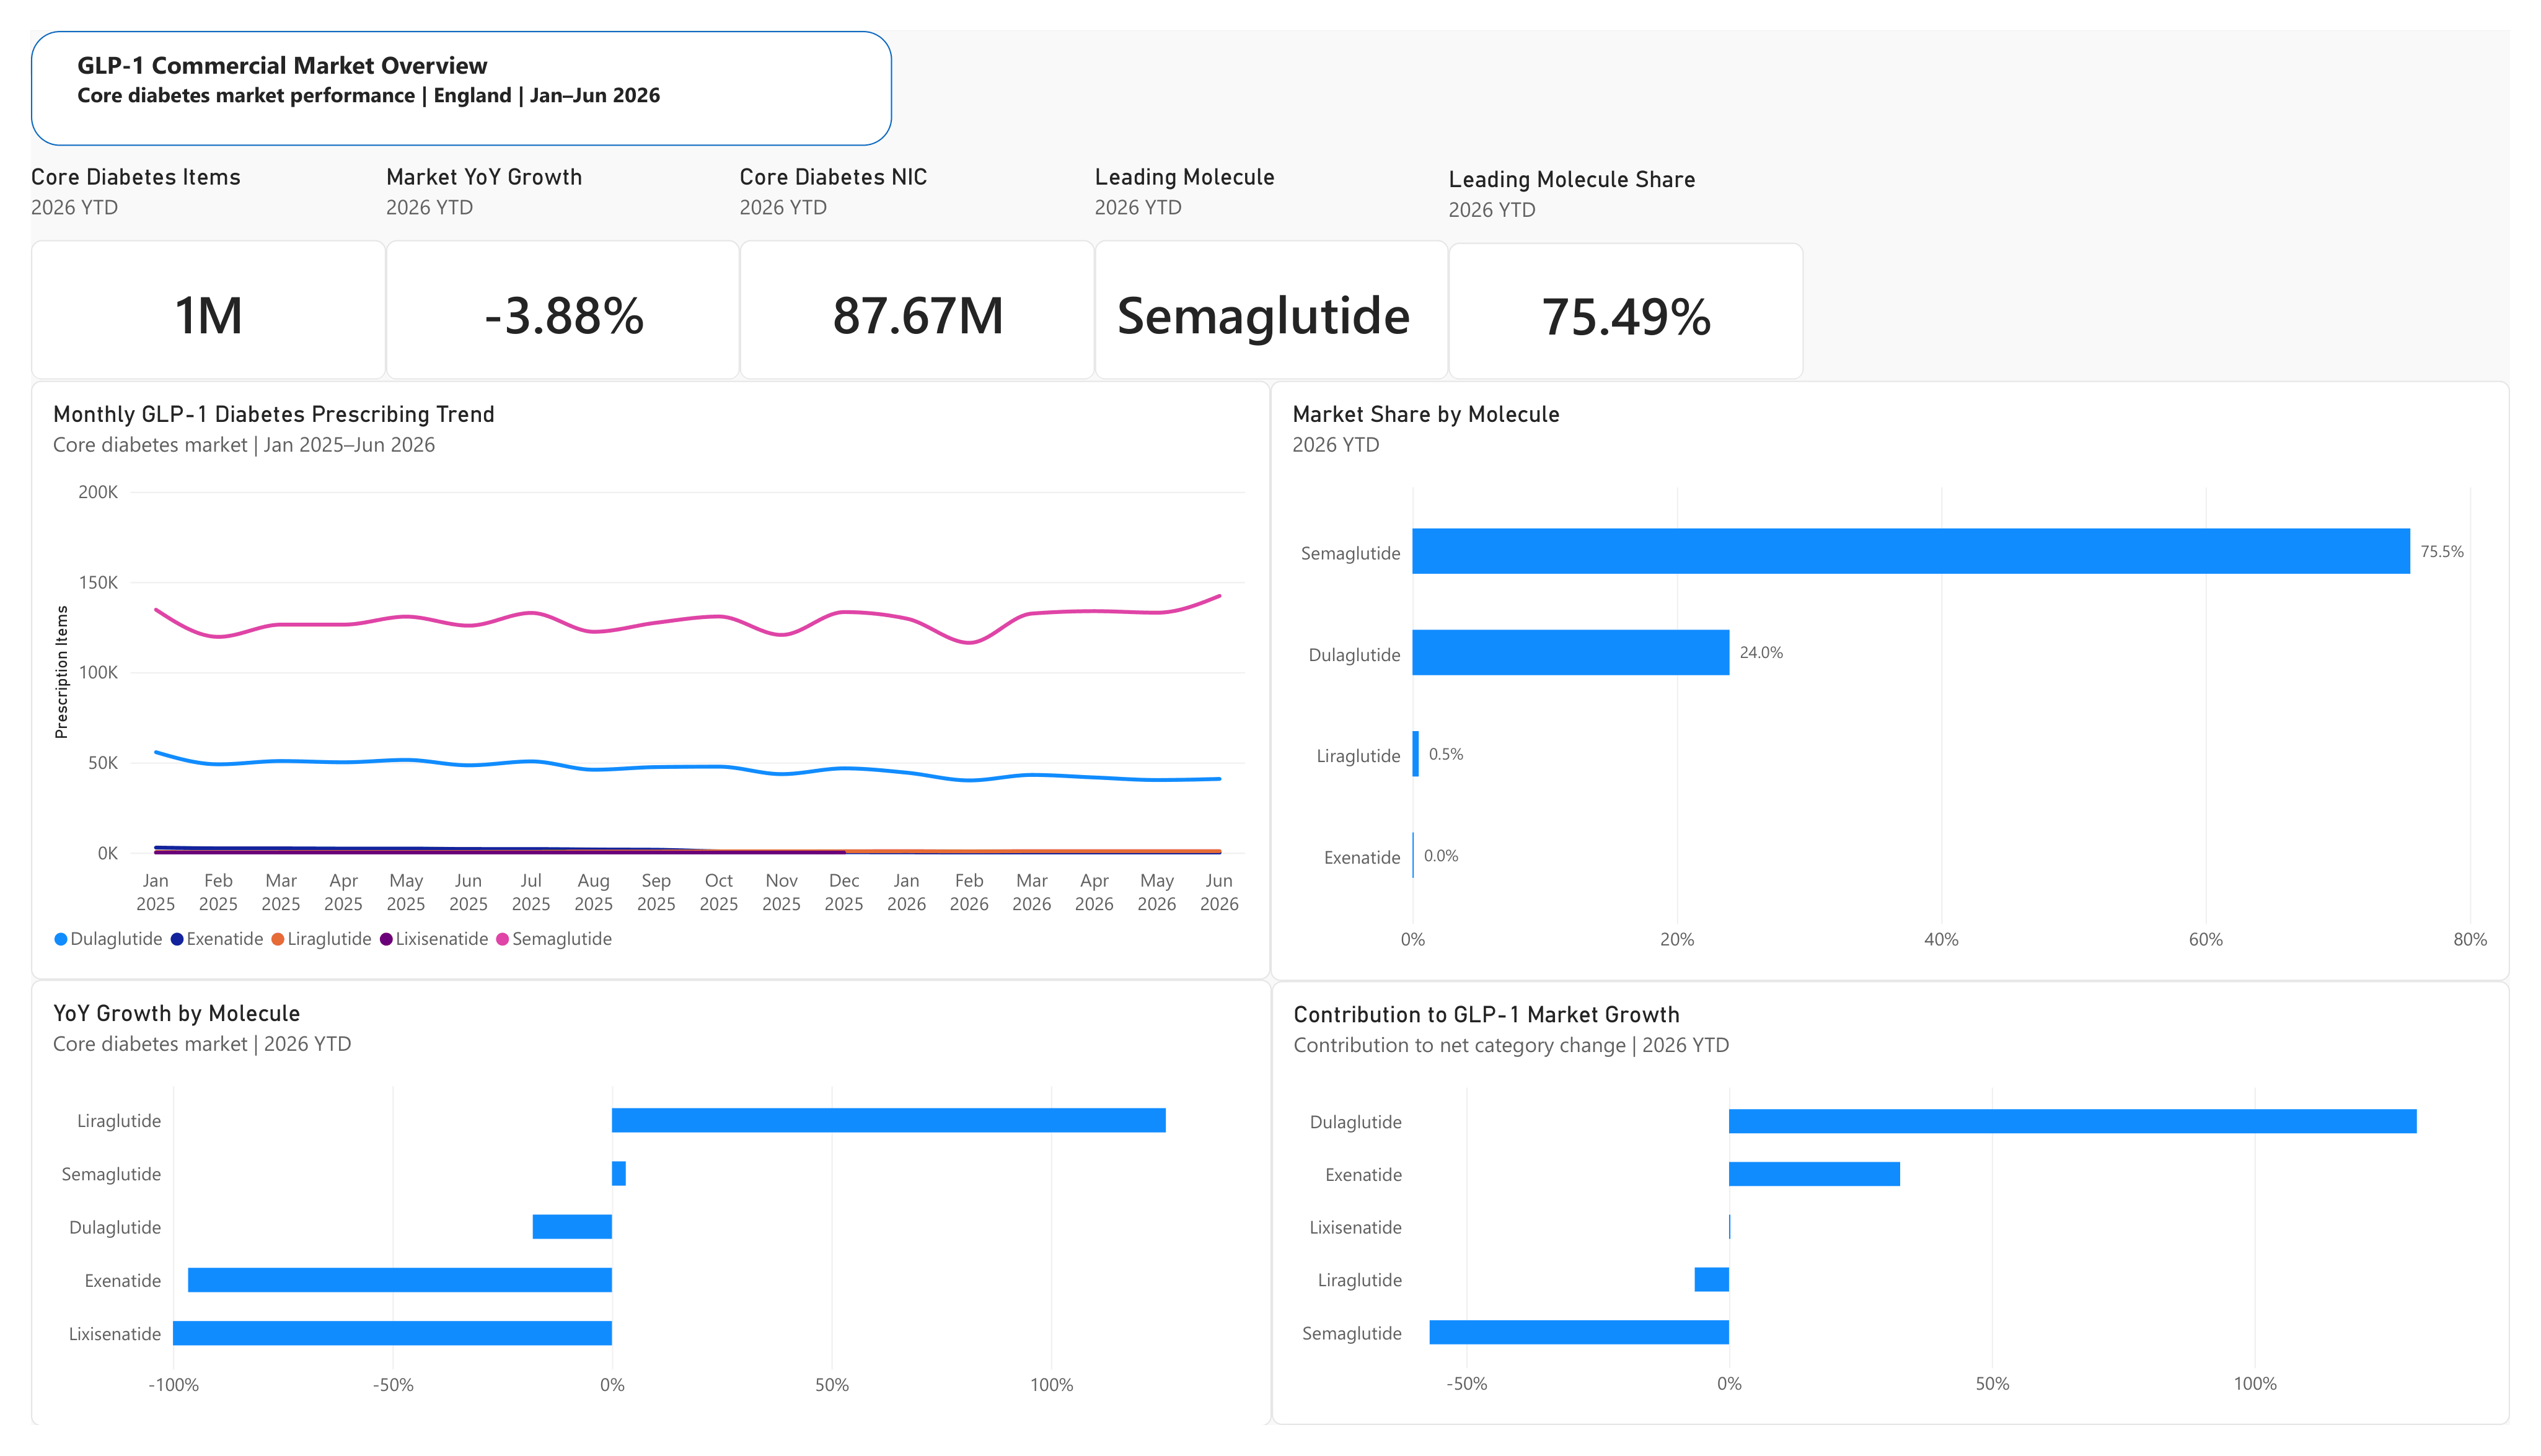

This screenshot's page, from the dashboard's own definition file:
{"tool":"powerbi","page":{"name":"Executive Market Overview","canvas":[1920,1080],"ordinal":0},"visuals":[{"type":"cardVisual","title":"Core Diabetes Items","fields":{"Data":["Measure Table.Core Diabetes Items"]},"box":[0,101.8,274.5,169.1],"z":0},{"type":"shape","box":[0,0,667.3,89.1],"z":1000},{"type":"cardVisual","title":"Market YoY Growth","fields":{"Data":["Measure Table.Core Diabetes Market YoY Growth"]},"box":[274.5,101.8,274.5,169.1],"z":2000},{"type":"textbox","box":[36.4,12.7,594.5,65.5],"z":3000},{"type":"cardVisual","title":"Core Diabetes NIC","fields":{"Data":["Measure Table.Core Diabetes NIC"]},"box":[549.1,101.8,274.5,169.1],"z":4000},{"type":"cardVisual","title":"Leading Molecule","fields":{"Data":["Measure Table.Leading Molecule"]},"box":[823.6,101.8,274.5,169.1],"z":5000},{"type":"cardVisual","title":"Leading Molecule Share","fields":{"Data":["Measure Table.Leading Molecule Market Share"]},"box":[1098.2,103.6,274.5,167.3],"z":6000},{"type":"lineChart","title":"Monthly GLP-1 Diabetes Prescribing Trend","fields":{"Category":["Dim_Date.YearMonthLabel"],"Series":["Dim_Product.Molecule"],"Y":["Measure Table.Core Diabetes Items"]},"box":[0,270.9,960,463.6],"z":7000},{"type":"clusteredBarChart","title":"Market Share by Molecule","fields":{"Category":["Dim_Product.Molecule"],"Y":["Measure Table.Core Diabetes Market Share"]},"box":[960,270.9,960,465.5],"z":8000},{"type":"clusteredBarChart","title":"YoY Growth by Molecule","fields":{"Category":["Dim_Product.Molecule"],"Y":["Measure Table.Core Diabetes YoY Growth"]},"box":[0,735.5,961.3,345.2],"z":9000},{"type":"clusteredBarChart","title":"Contribution to GLP-1 Market Growth","fields":{"Category":["Dim_Product.Molecule"],"Y":["Measure Table.Core Diabetes Growth Contribution"]},"box":[961,736,959,344],"z":10000}]}

Visuals, with their boxes on the page's 1920x1080 design canvas (x1, y1, x2, y2). These are canvas units, not pixel positions in the 2541x1456 screenshot, which may show the page scaled, cropped or inside an application window:
"Core Diabetes Items" cardVisual: (left=0, top=102, right=274, bottom=271)
shape: (left=0, top=0, right=667, bottom=89)
"Market YoY Growth" cardVisual: (left=274, top=102, right=549, bottom=271)
textbox: (left=36, top=13, right=631, bottom=78)
"Core Diabetes NIC" cardVisual: (left=549, top=102, right=824, bottom=271)
"Leading Molecule" cardVisual: (left=824, top=102, right=1098, bottom=271)
"Leading Molecule Share" cardVisual: (left=1098, top=104, right=1373, bottom=271)
"Monthly GLP-1 Diabetes Prescribing Trend" lineChart: (left=0, top=271, right=960, bottom=734)
"Market Share by Molecule" clusteredBarChart: (left=960, top=271, right=1920, bottom=736)
"YoY Growth by Molecule" clusteredBarChart: (left=0, top=736, right=961, bottom=1081)
"Contribution to GLP-1 Market Growth" clusteredBarChart: (left=961, top=736, right=1920, bottom=1080)
